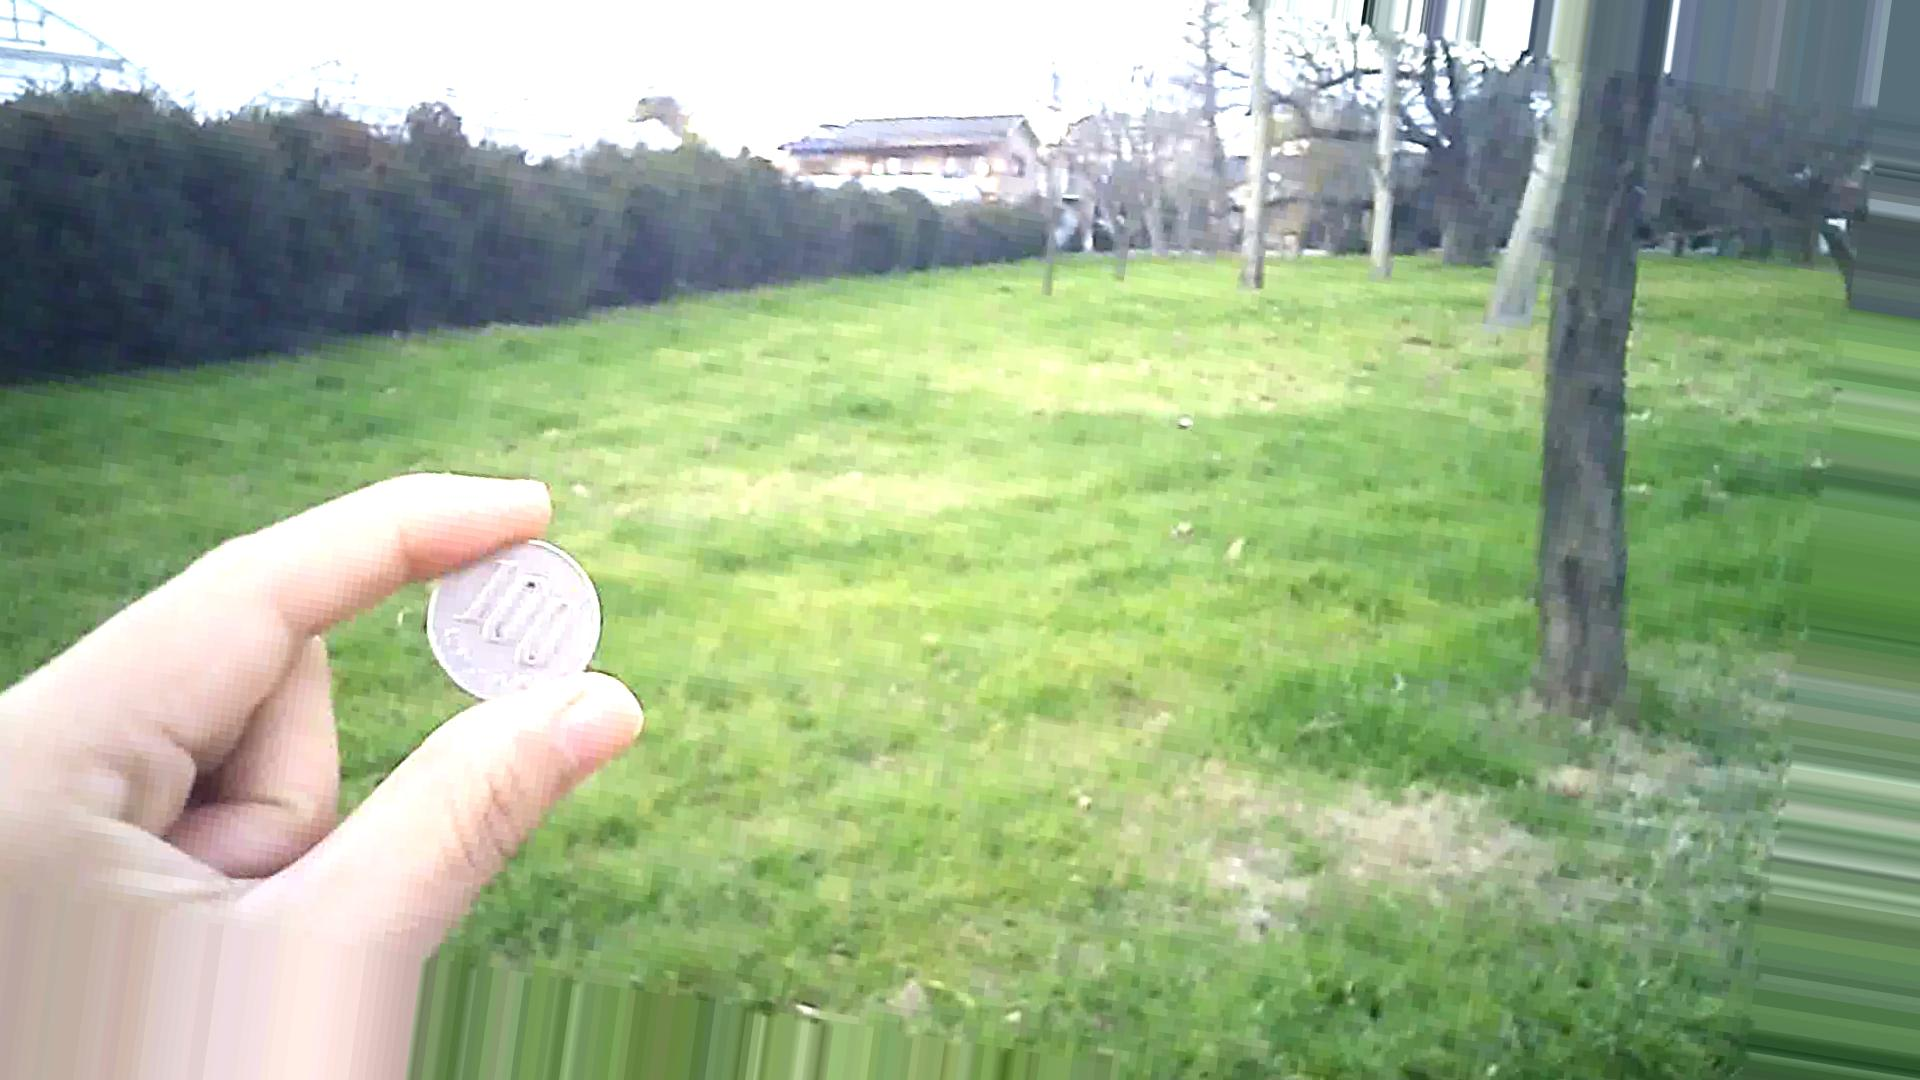100 Yen: (423, 529, 607, 711)
